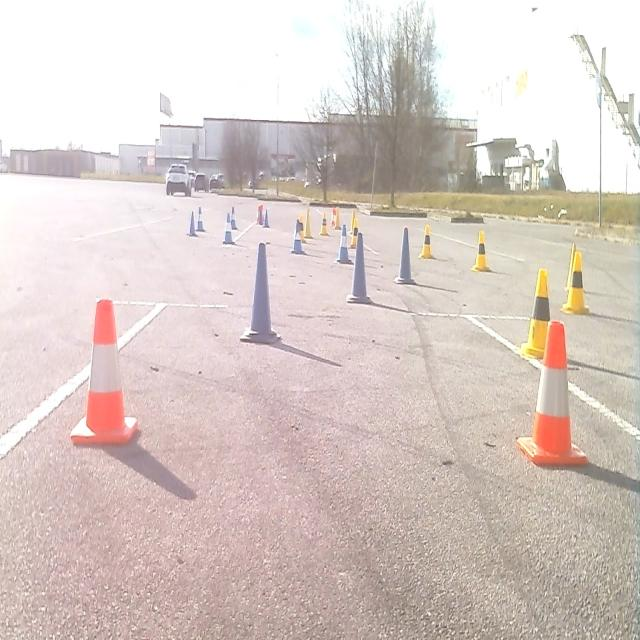blue_cone: (239, 239, 281, 345), (348, 230, 372, 306), (393, 226, 416, 285), (336, 224, 353, 265), (292, 220, 304, 254), (223, 212, 235, 245), (186, 210, 198, 238), (195, 207, 206, 232), (228, 207, 238, 230), (263, 208, 270, 229)
orange_cone: (516, 317, 588, 469), (69, 295, 139, 447), (256, 205, 264, 225)
yellow_cone: (520, 266, 551, 358), (560, 248, 590, 316), (471, 227, 491, 273), (418, 221, 436, 260), (348, 218, 361, 248), (296, 215, 308, 244), (304, 209, 314, 240), (319, 212, 330, 236), (333, 208, 342, 230), (349, 211, 357, 232)
